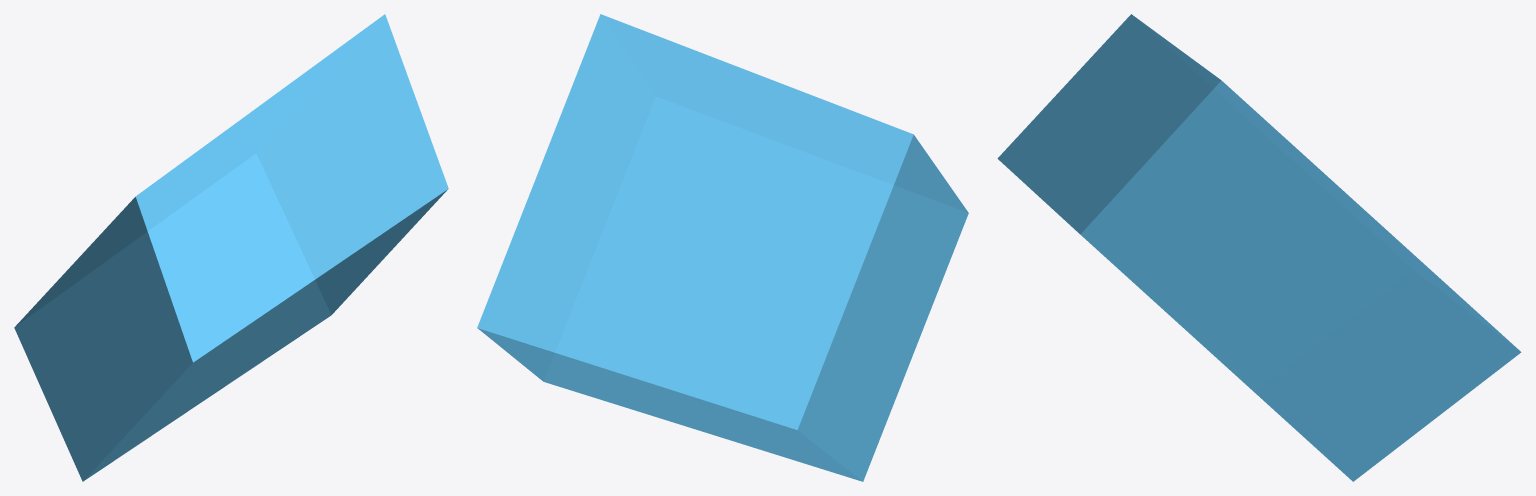
File: Event_421127236_HErechit_36.fbx
3 views of the same model, side by side, from view 1: azimuth 30°, elevation 25°; view 2: azimuth 150°, elevation 25°; view 3: azimuth 270°, elevation 25° (orthographic). The views are drawn at different scales.
Parts seen in each view (by area): view 1: Model; view 2: Model; view 3: Model.
Boxes of the visible parts, x1=… form: Model: x1=14, y1=14, x2=448, y2=481; Model: x1=477, y1=14, x2=968, y2=481; Model: x1=997, y1=14, x2=1521, y2=481.
Bounding box in the file's own units: 0.6854 × 0.9171 × 0.9171.
